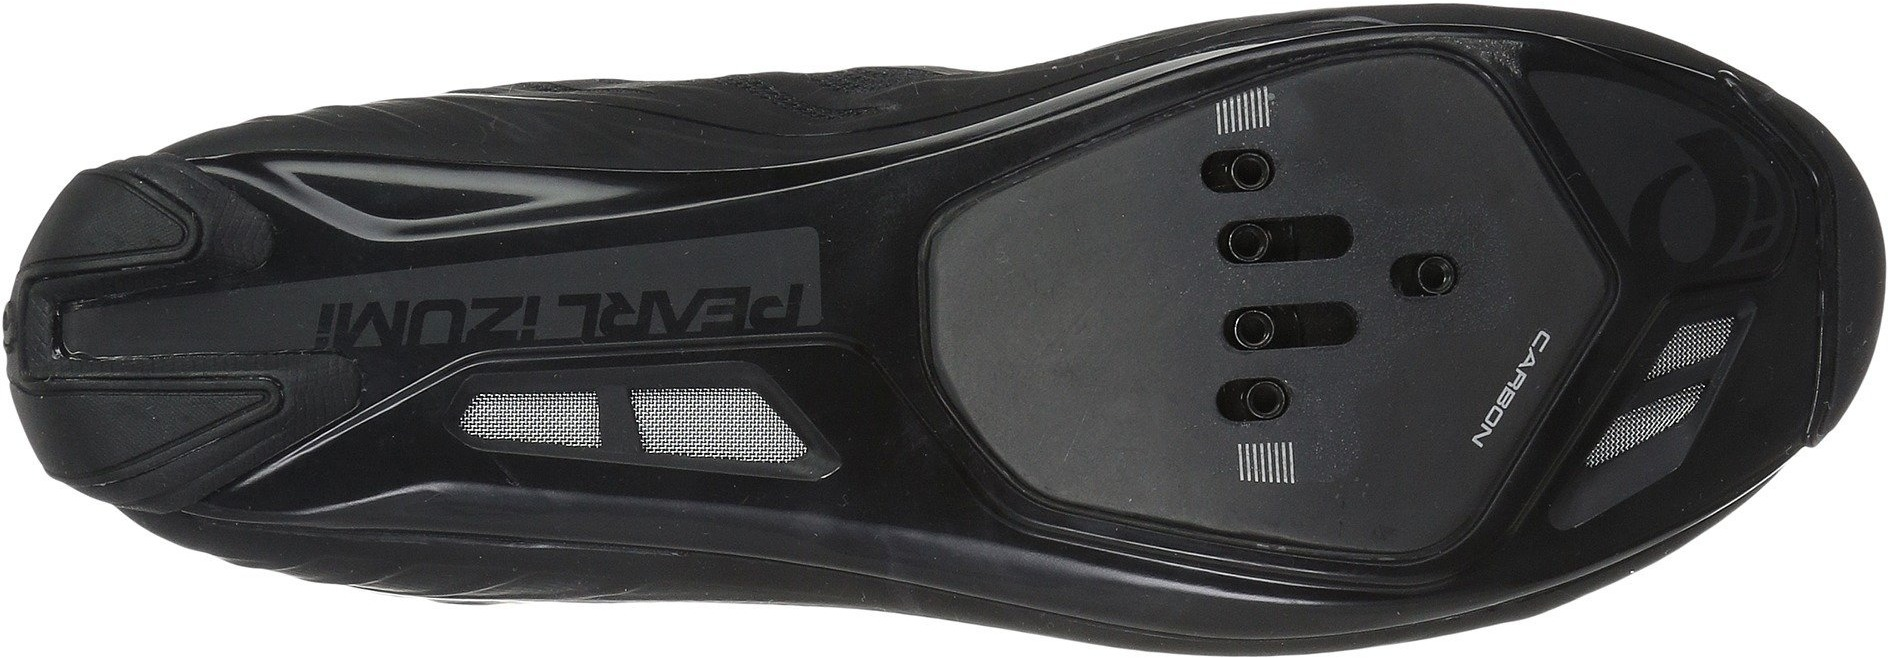chevron: (107, 331, 285, 466), (1520, 194, 1663, 342), (99, 175, 222, 278), (1383, 233, 1476, 315)
circle: (1200, 139, 1320, 368)
line: (551, 264, 831, 365), (303, 283, 542, 380), (1229, 430, 1318, 516)
other: (970, 210, 1202, 441), (1326, 74, 1486, 221)
text: (551, 264, 831, 365), (303, 283, 542, 380), (290, 274, 417, 384), (560, 255, 662, 378), (1430, 342, 1546, 446), (419, 262, 541, 356), (706, 242, 809, 342)
